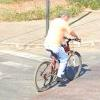bicycles: (34, 36, 83, 92)
